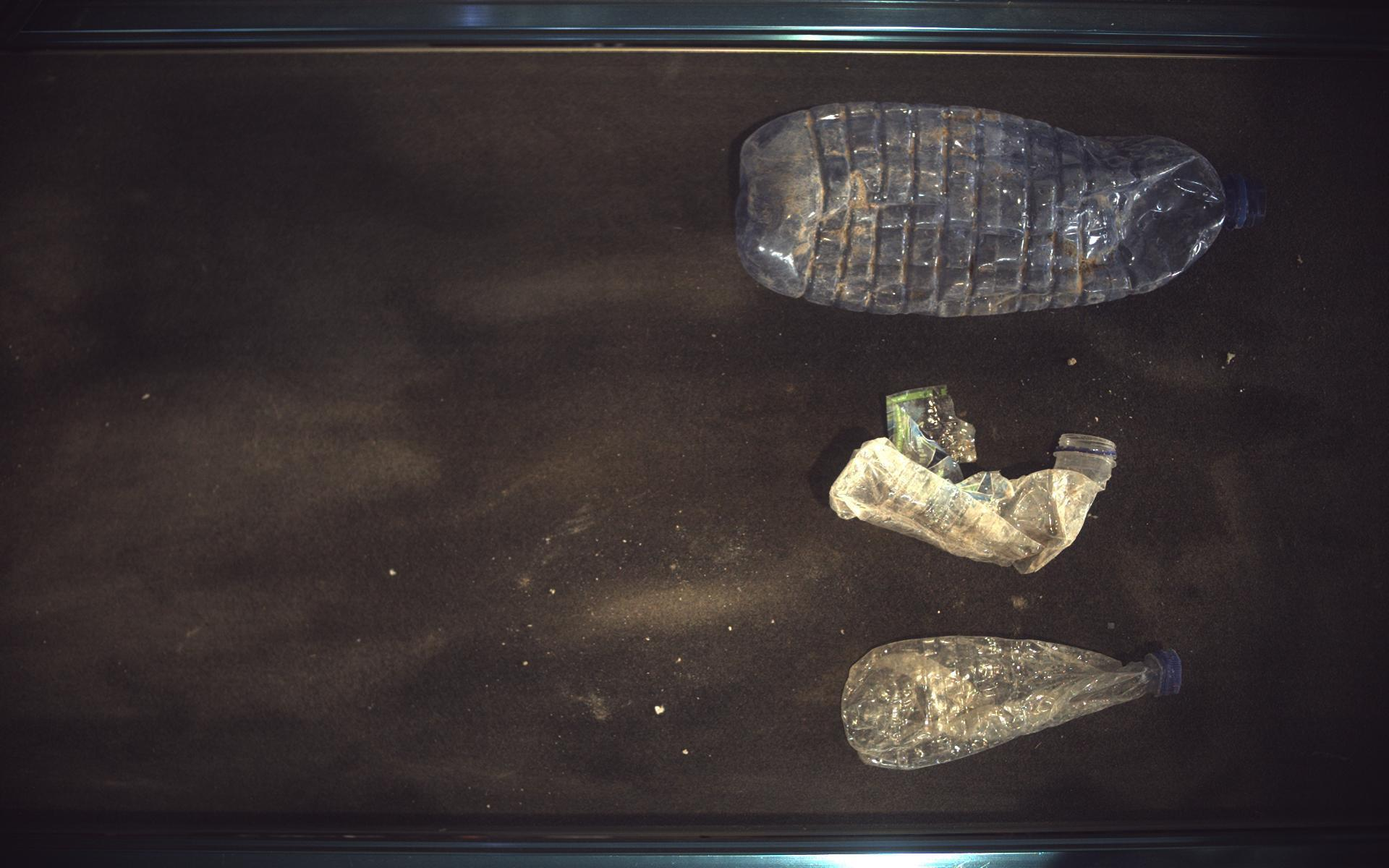general_w: (737, 101, 1269, 316), (832, 385, 1118, 574), (844, 637, 1184, 771)
